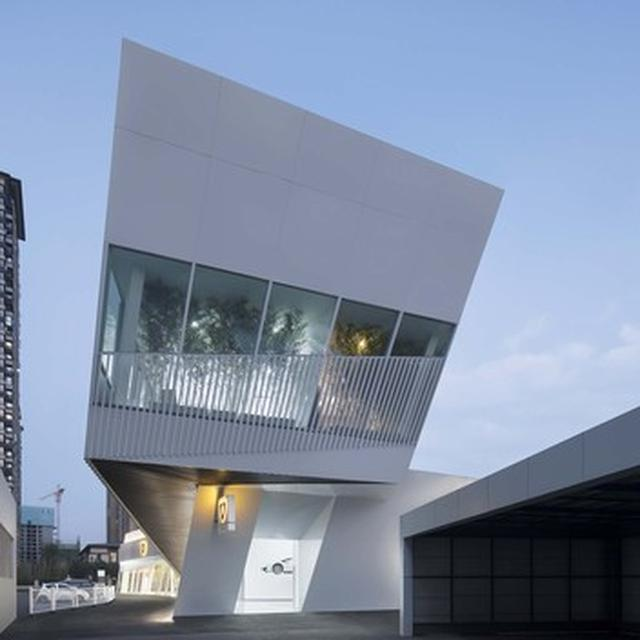building: (83, 34, 487, 609), (399, 399, 640, 640)
